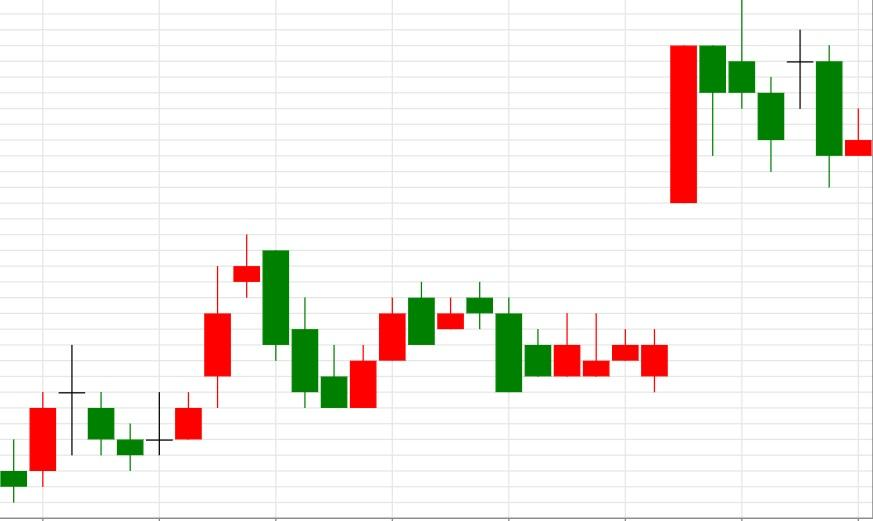bullish_engulfing_rise: (233, 235, 378, 410)
